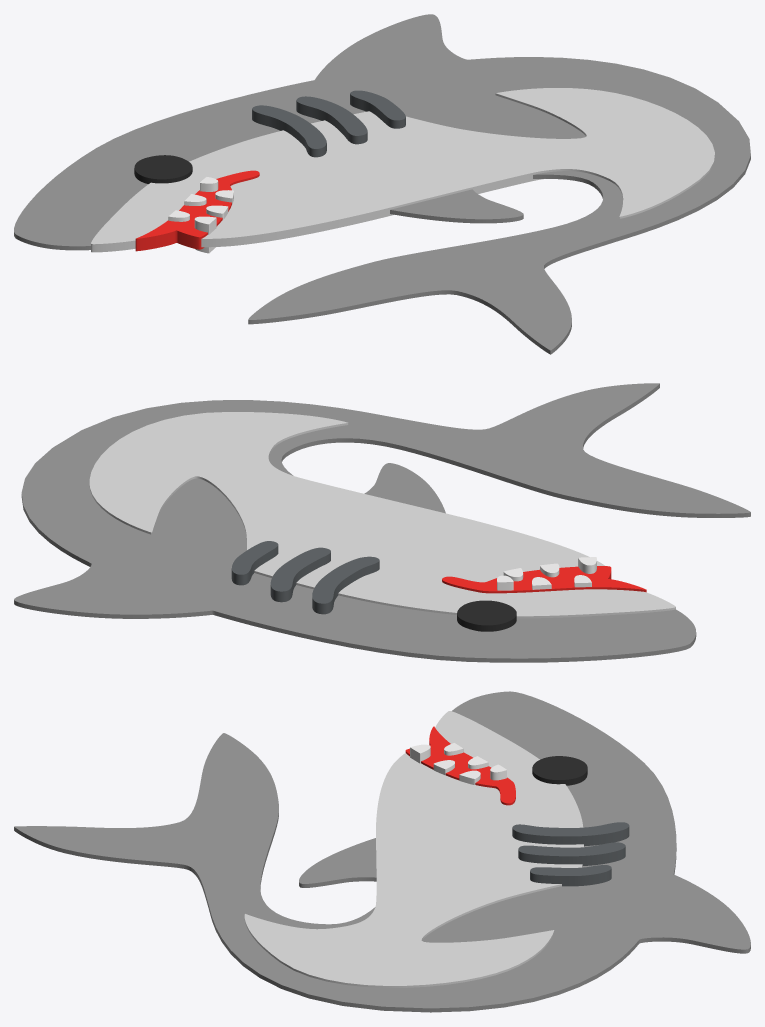
Rendered from emoji_u1f988.glb.
The picture shows the model from 3 angles, top to bottom: view 1: azimuth 30°, elevation 25°; view 2: azimuth 150°, elevation 25°; view 3: azimuth 270°, elevation 25°; orthographic projection. The views are drawn at different scales.
Visible parts, largest first — view 1: emoji_u1f988; view 2: emoji_u1f988; view 3: emoji_u1f988.
Part boxes in pixels (left/top/right/bottom): emoji_u1f988: left=14, top=14, right=750, bottom=354; emoji_u1f988: left=14, top=383, right=750, bottom=662; emoji_u1f988: left=14, top=691, right=750, bottom=1012.
Bounding box in the file's own units: 0.0334 × 0.0014 × 0.0328.
